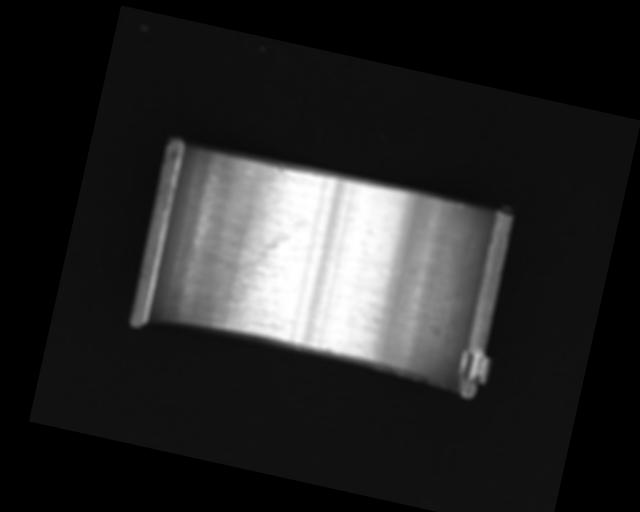bruise: (275, 164, 287, 174)
